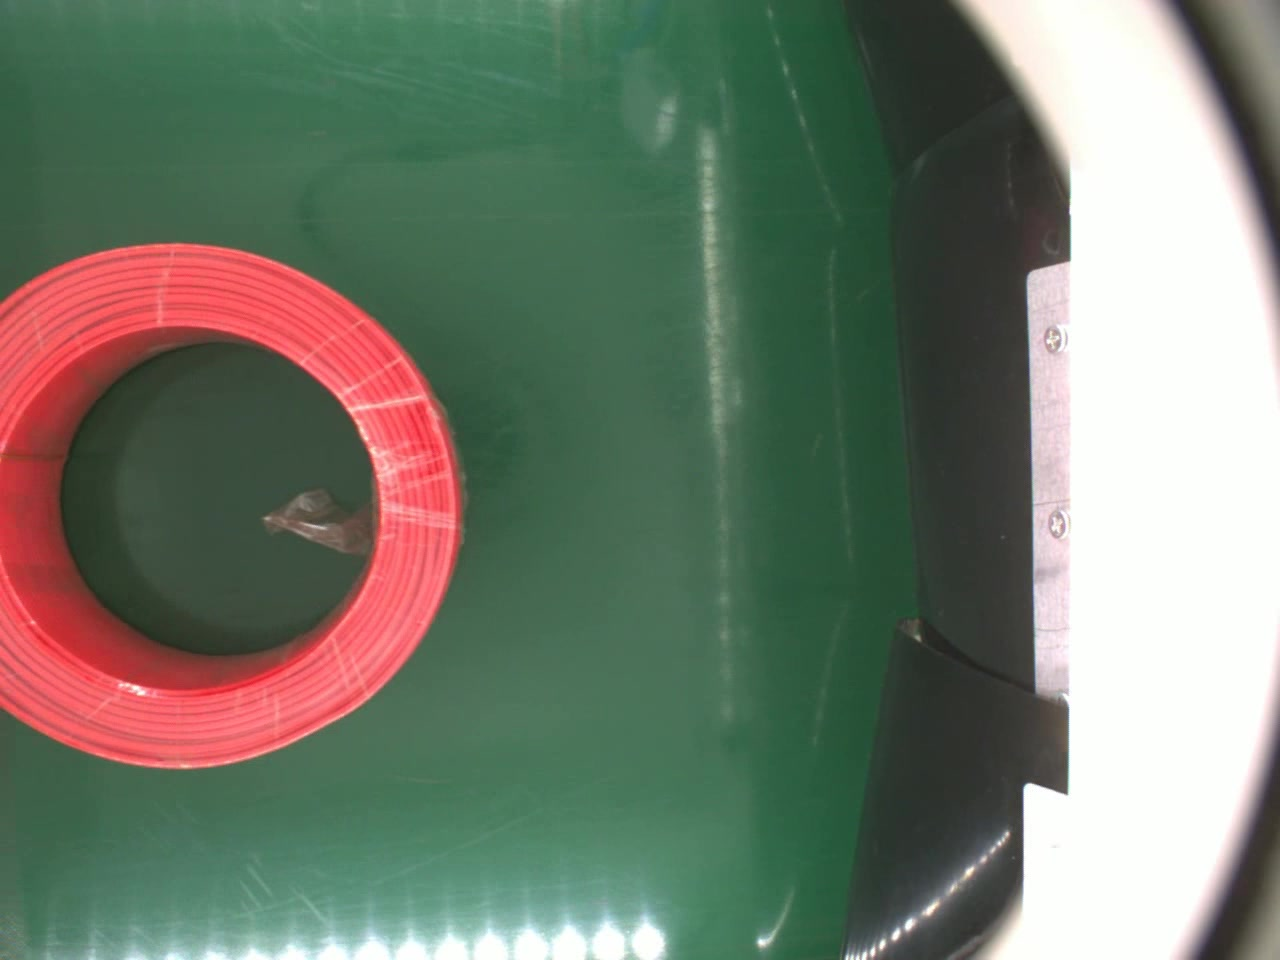red: (0, 237, 471, 771)
